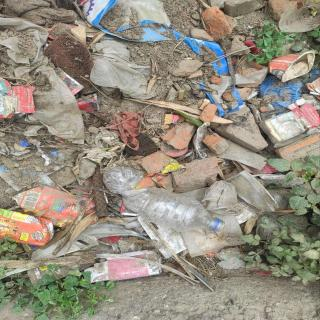Plastic-bottle: (101, 163, 228, 235)
